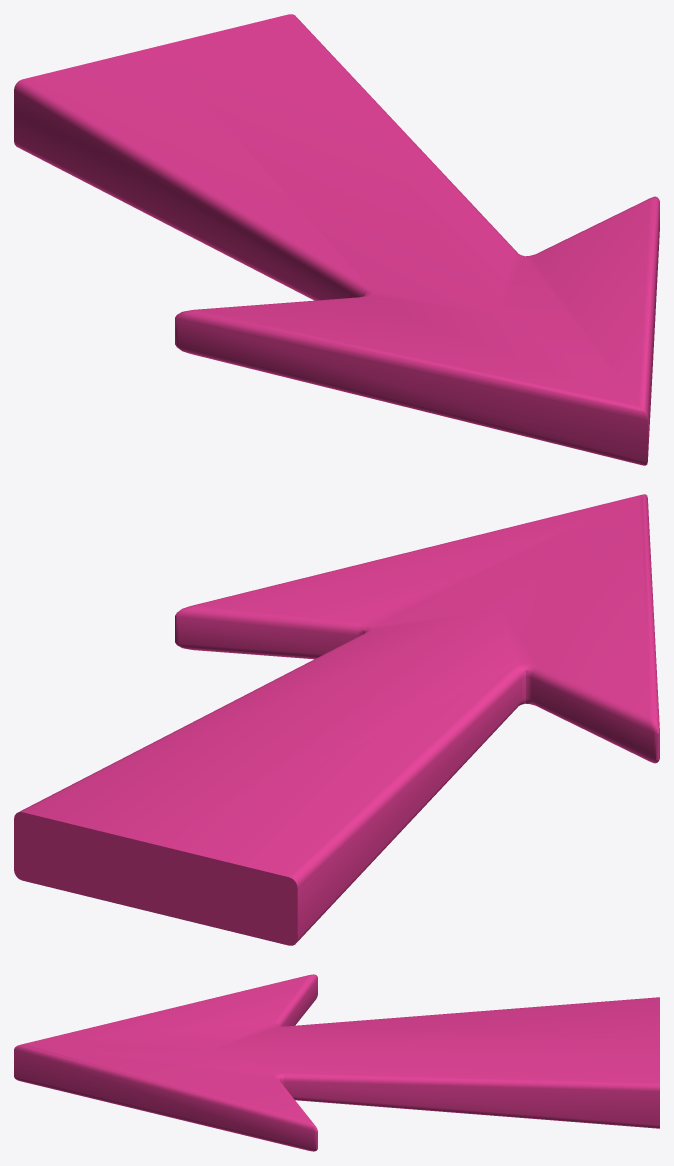
3 views of the same model, one above another, from view 1: azimuth 30°, elevation 25°; view 2: azimuth 150°, elevation 25°; view 3: azimuth 270°, elevation 25° (orthographic). The views are drawn at different scales.
Parts seen in each view (by area): view 1: ok; view 2: ok; view 3: ok.
Boxes of the visible parts, x1,y1,x2,y2 form: ok: (14,14,659,465); ok: (14,494,659,945); ok: (14,974,659,1151).
Size of the model in its own units: 298 by 525 by 40.26.
